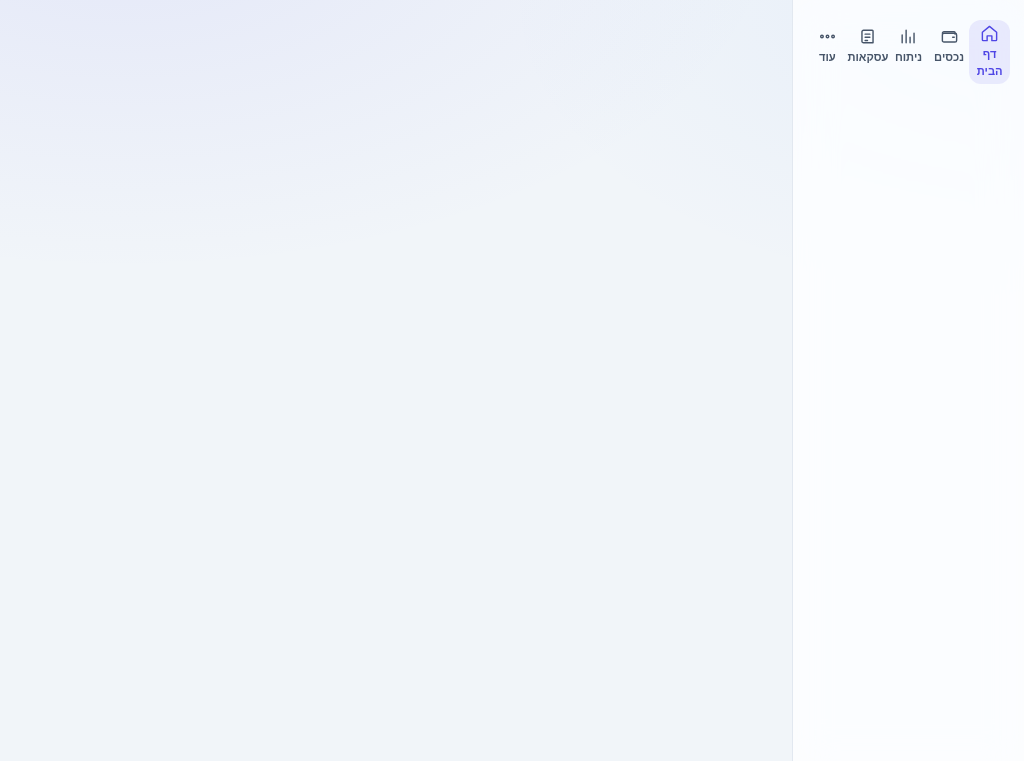
Test case: SideNav - the account controls on a phone › the admin link is offered to admins only
This screenshot has width=1024, height=761.
Click the button "עוד". click: (827, 46)
box: top-left (807, 20), bottom-right (848, 72)
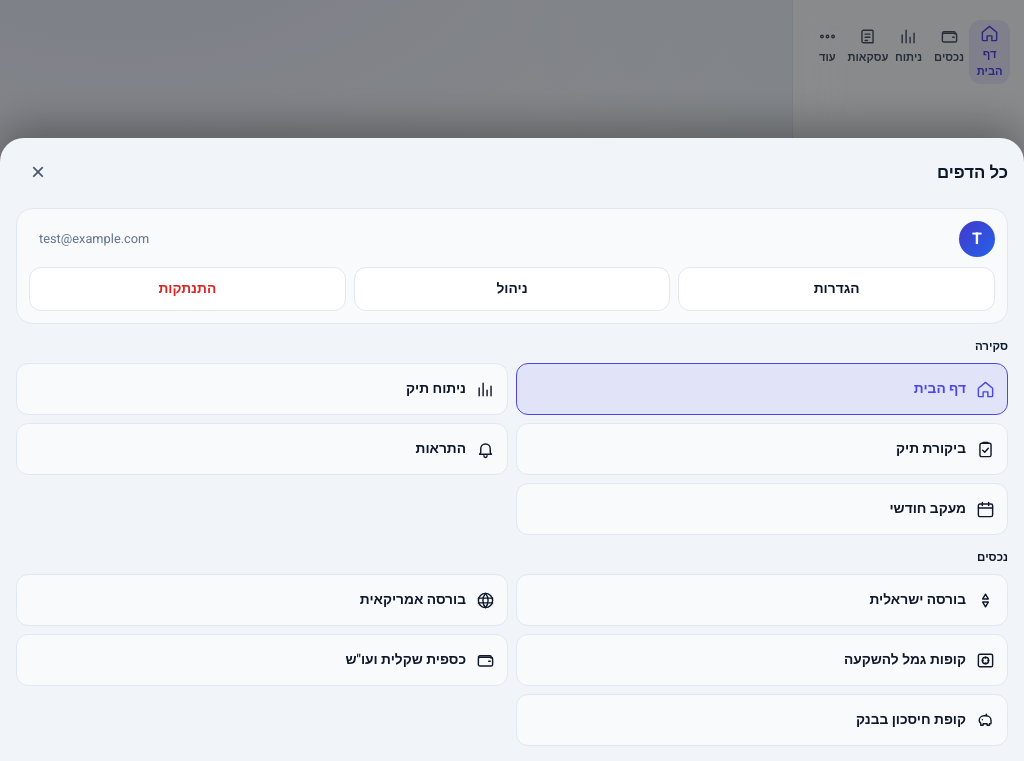
expect the button "ניהול" is shown: met, box top-left (354, 267), bottom-right (670, 311)
